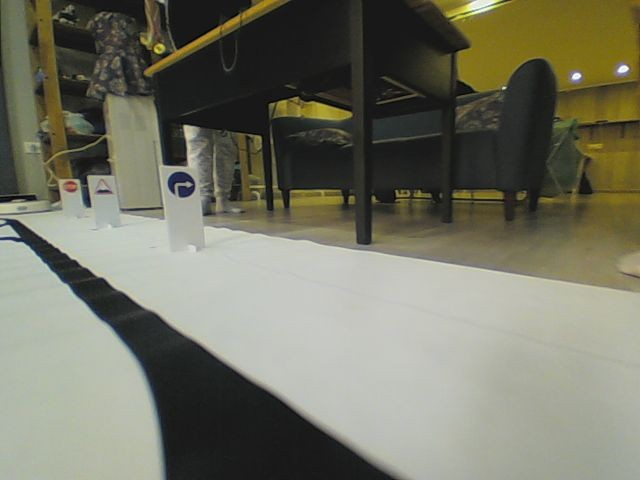Nerov: (93, 177, 114, 196)
Right: (166, 170, 196, 198)
